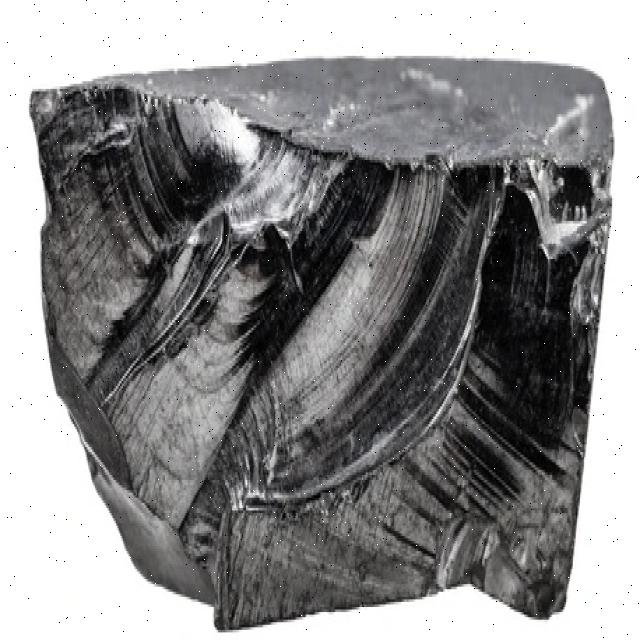Sedimentary: (17, 51, 613, 620)
